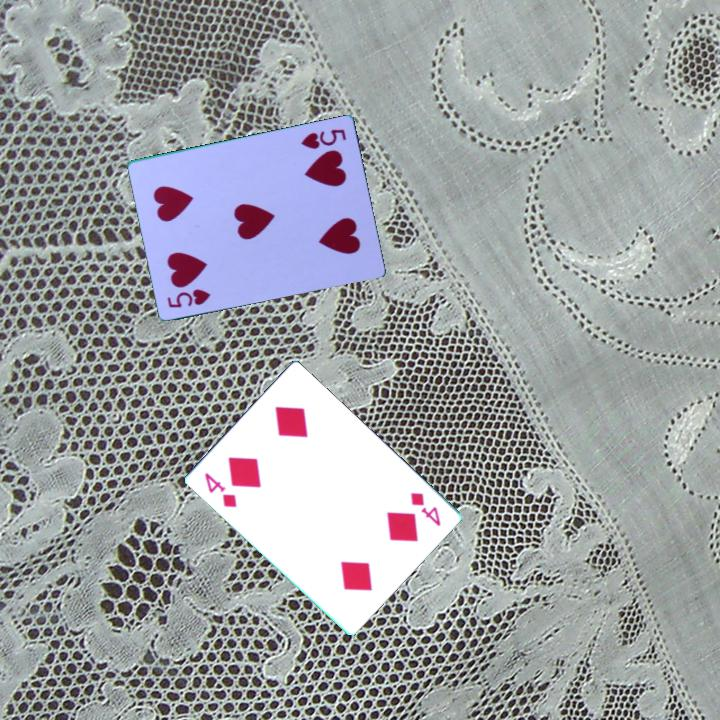4d: (200, 469, 239, 510), (406, 489, 443, 529)
5h: (298, 125, 349, 152), (164, 285, 214, 310)
